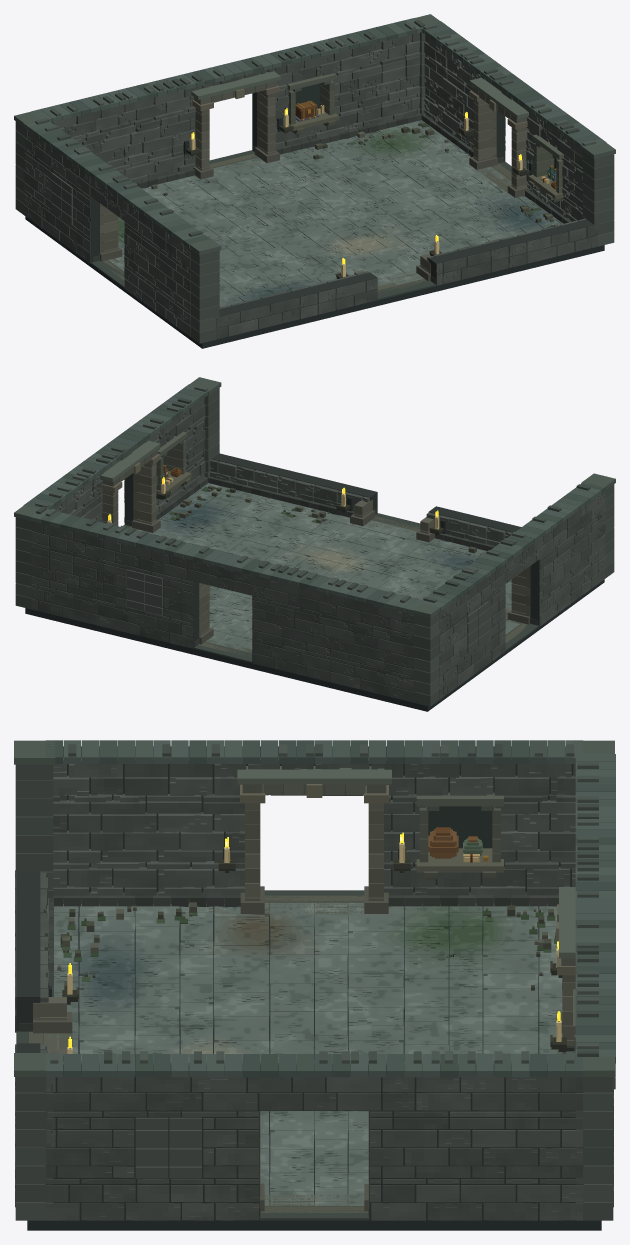
Rendered from B_room_shell.glb.
3 renders of one model, top to bottom at view 1: azimuth 30°, elevation 25°; view 2: azimuth 150°, elevation 25°; view 3: azimuth 270°, elevation 25°, orthographic. The views are drawn at different scales.
Visible parts, largest first — view 1: Wall_North_Upper, Floor_NE, Wall_West_Upper, Floor_SE, Wall_South_Lower, Wall_East_Upper, Floor_SW, Floor_NW, Wall_North_Lower, Wall_West_Lower, Portal_North_LintelUpper, Floor_Substrate (+17 smaller); view 2: Wall_North_Upper, Wall_West_Upper, Floor_SE, Wall_East_Upper, Wall_North_Lower, Wall_South_Lower, Floor_SW, Wall_West_Lower, Floor_Substrate, Portal_East_LintelUpper, Corner_-1_1, Floor_NE (+14 smaller); view 3: Wall_East_Upper, Wall_West_Upper, Floor_SW, Floor_NW, Wall_East_Lower, Wall_West_Lower, Wall_North_Upper, Floor_Substrate, Portal_West_LintelUpper, Wall_South_Lower, Corner_1_-1, Niche_West (+15 smaller).
Boxes of the visible parts, left/top/right/bottom form: Wall_North_Upper: left=31, top=18, right=425, bottom=170; Floor_NE: left=226, top=120, right=505, bottom=225; Wall_West_Upper: left=23, top=118, right=210, bottom=313; Floor_SE: left=321, top=178, right=562, bottom=284; Wall_South_Lower: left=215, top=218, right=598, bottom=339; Wall_East_Upper: left=422, top=21, right=606, bottom=212; Floor_SW: left=124, top=223, right=404, bottom=307; Floor_NW: left=108, top=165, right=315, bottom=270; Wall_North_Lower: left=118, top=97, right=421, bottom=188; Wall_West_Lower: left=24, top=194, right=190, bottom=336; Portal_North_LintelUpper: left=191, top=71, right=280, bottom=159; Floor_Substrate: left=25, top=173, right=604, bottom=348; Wall_North_Upper: left=30, top=506, right=425, bottom=679; Wall_West_Upper: left=421, top=481, right=606, bottom=676; Floor_SE: left=138, top=483, right=396, bottom=575; Wall_East_Upper: left=23, top=384, right=209, bottom=522; Wall_North_Lower: left=31, top=587, right=414, bottom=702; Wall_South_Lower: left=208, top=453, right=521, bottom=550; Floor_SW: left=323, top=527, right=519, bottom=633; Wall_West_Lower: left=439, top=557, right=605, bottom=699; Floor_Substrate: left=25, top=579, right=604, bottom=711; Portal_East_LintelUpper: left=99, top=440, right=160, bottom=525; Corner_-1_1: left=410, top=600, right=441, bottom=706; Floor_NE: left=206, top=585, right=252, bottom=649; Wall_East_Upper: left=45, top=1051, right=583, bottom=1184; Wall_West_Upper: left=45, top=740, right=583, bottom=869; Floor_SW: left=49, top=903, right=314, bottom=1061; Floor_NW: left=314, top=903, right=562, bottom=1060; Wall_East_Lower: left=45, top=1184, right=583, bottom=1220; Wall_West_Lower: left=48, top=866, right=575, bottom=907; Wall_North_Upper: left=575, top=754, right=615, bottom=1170; Floor_Substrate: left=27, top=905, right=601, bottom=1230; Portal_West_LintelUpper: left=237, top=766, right=391, bottom=882; Wall_South_Lower: left=15, top=870, right=53, bottom=1207; Corner_1_-1: left=14, top=1053, right=53, bottom=1220; Niche_West: left=416, top=792, right=503, bottom=879.
Bounding box in the file's own units: 17.44 × 4.16 × 13.42.
Materials: 9 (1 with a texture image).
